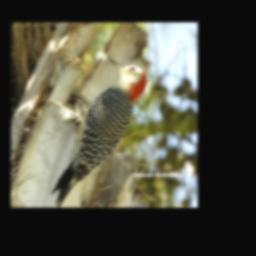Woodpecker: (50, 58, 150, 207)
